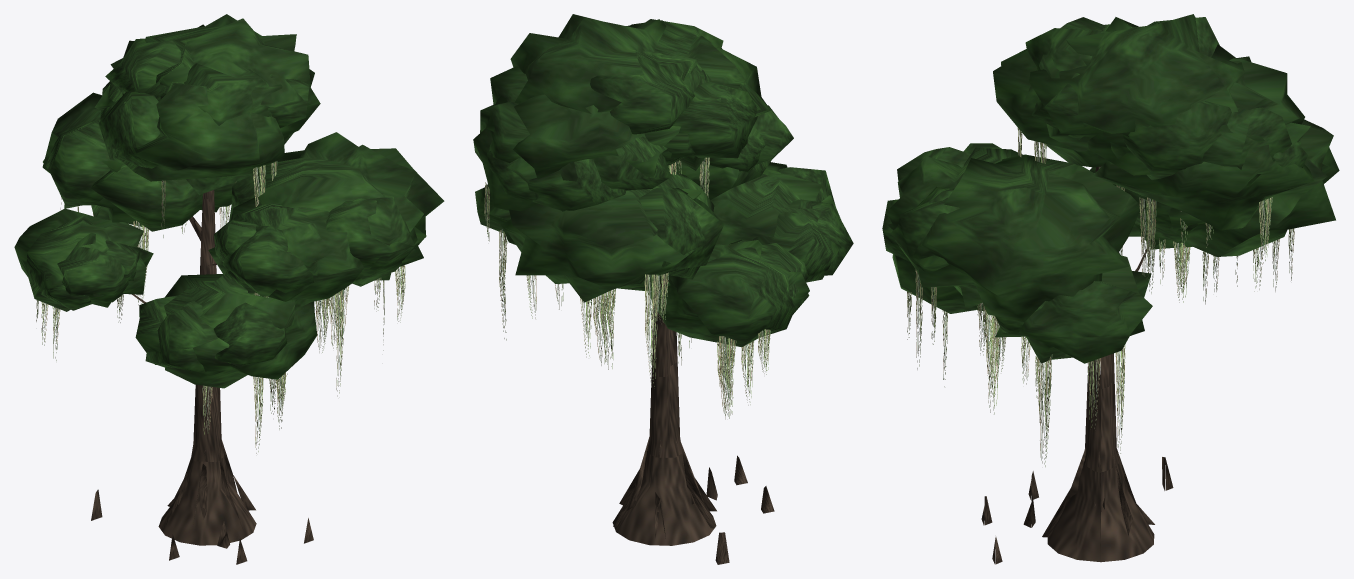
File: cypress_3_lite.glb
3 views of the same model, side by side, from view 1: azimuth 30°, elevation 25°; view 2: azimuth 150°, elevation 25°; view 3: azimuth 270°, elevation 25° (orthographic). The views are drawn at different scales.
Parts seen in each view (by area): view 1: cypress; view 2: cypress; view 3: cypress.
Part boxes in pixels (bbox=[...]): cypress: bbox=[14, 14, 444, 564]; cypress: bbox=[473, 14, 853, 564]; cypress: bbox=[882, 14, 1339, 564].
Bounding box in the file's own units: 11.96 × 16.34 × 12.69.
3 materials, 3 textured.
